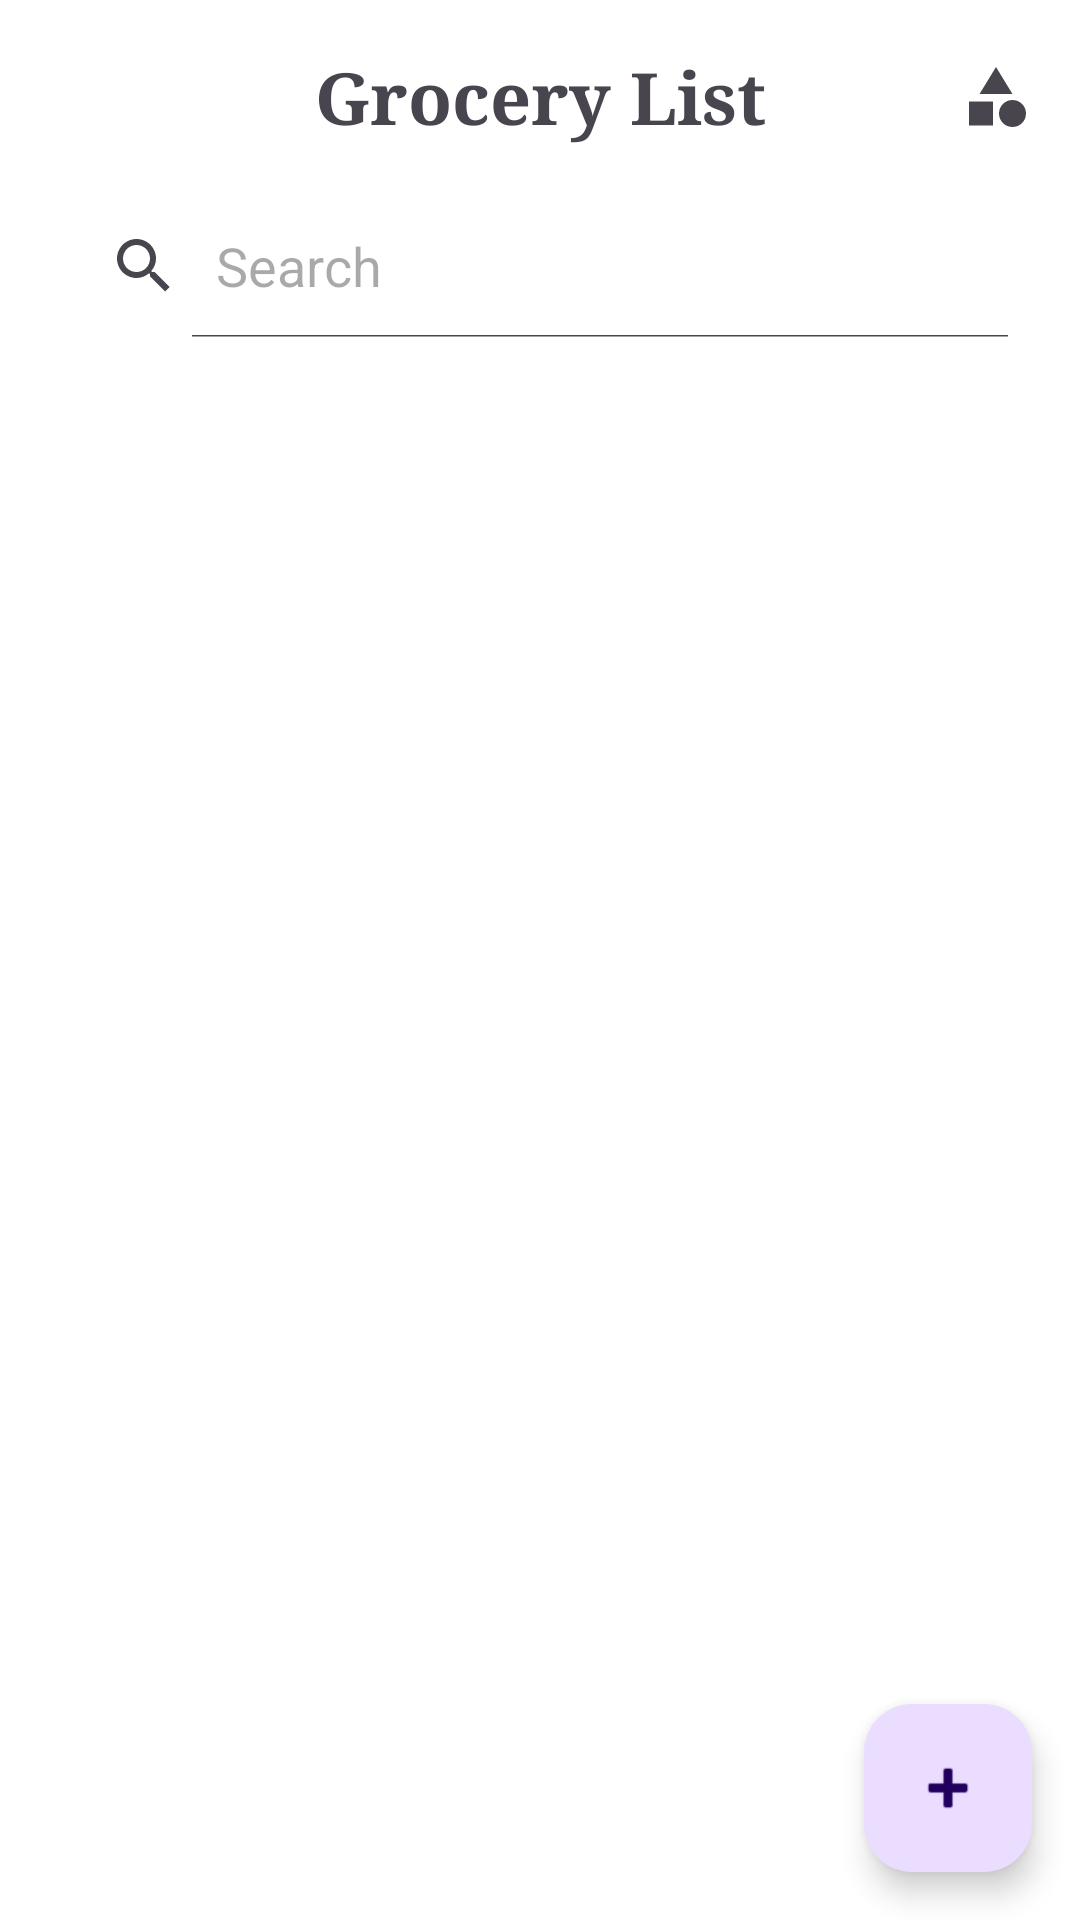

Screen size 1080 x 1920. Icon name, then its box in pixels as (x1=x1, y1=y1, x2=x2, y2=y2):
Add Item: (x1=864, y1=1704, x2=1032, y2=1872)
Manage categories: (x1=969, y1=67, x2=1026, y2=127)
